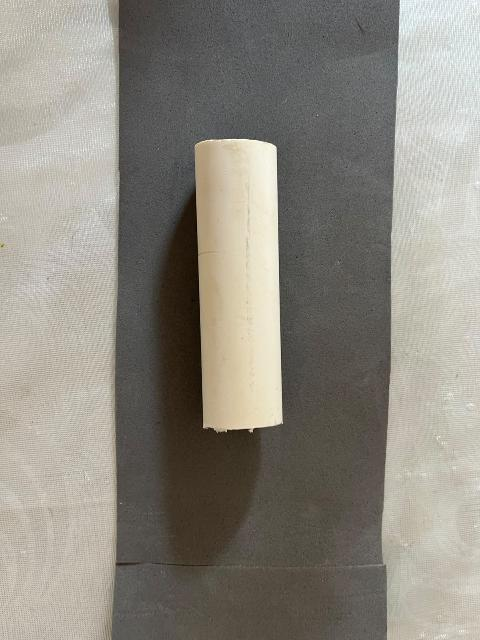PVC: (136, 114, 357, 486)
